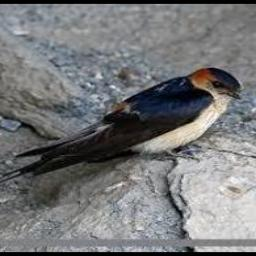Swallow: (0, 68, 242, 189)
